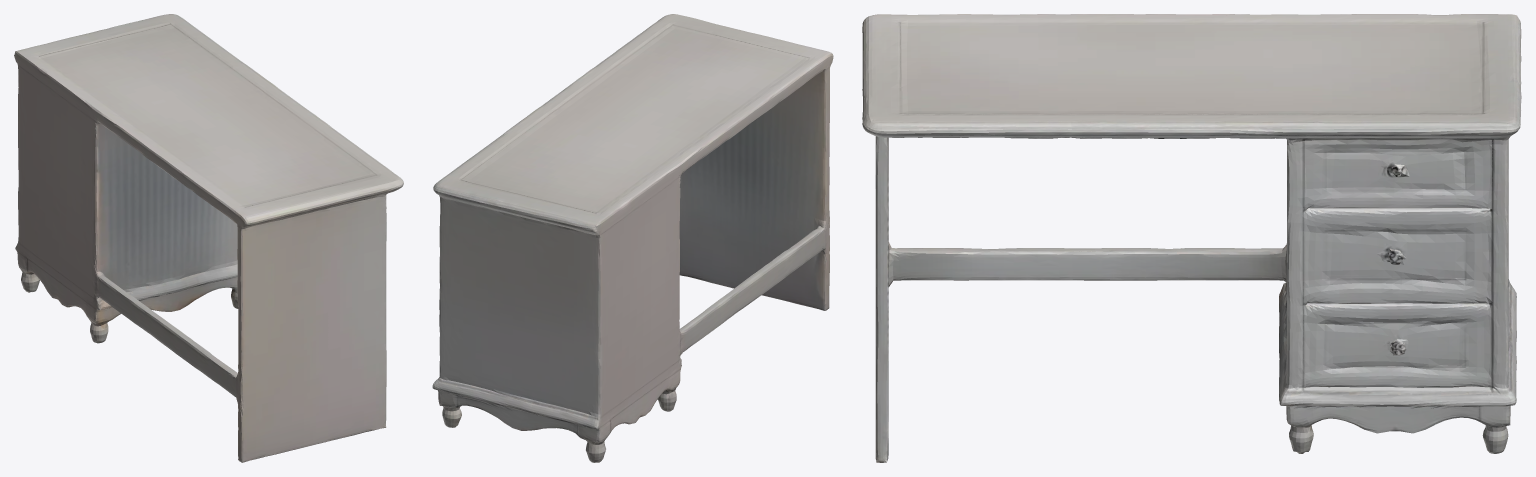
The model's file is ShiraTableAI.glb.
The picture shows the model from 3 angles, left to right: view 1: azimuth 30°, elevation 25°; view 2: azimuth 150°, elevation 25°; view 3: azimuth 270°, elevation 25°; orthographic projection. The views are drawn at different scales.
Parts seen in each view (by area): view 1: tripo_node_c071e08c-9a35-4e9b-93bc-20e517edf02f; view 2: tripo_node_c071e08c-9a35-4e9b-93bc-20e517edf02f; view 3: tripo_node_c071e08c-9a35-4e9b-93bc-20e517edf02f.
Boxes of the visible parts, x1,y1,x2,y2 form: tripo_node_c071e08c-9a35-4e9b-93bc-20e517edf02f: (14,14,403,462); tripo_node_c071e08c-9a35-4e9b-93bc-20e517edf02f: (432,14,833,462); tripo_node_c071e08c-9a35-4e9b-93bc-20e517edf02f: (862,14,1521,462).
Size of the model in its own units: 0.4039 by 0.5846 by 0.999.
1 material, 1 textured.
